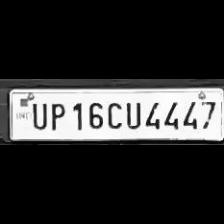1: (66, 99, 84, 130)
4: (142, 98, 160, 130), (160, 97, 178, 128), (179, 97, 197, 128)
6: (85, 98, 105, 130)
7: (198, 97, 216, 128)
C: (104, 99, 122, 129)
P: (46, 99, 66, 130)
U: (27, 99, 47, 131), (123, 97, 141, 128)
